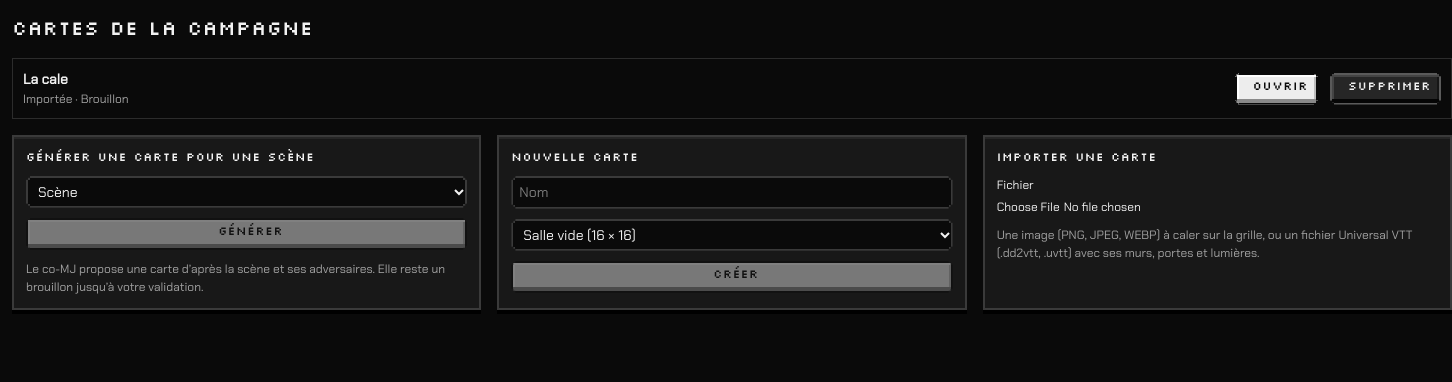
Test: MapsDesk › says why the model’s map was refused
Select "Le puits" in the dropdown named "Scène". click: x=247, y=192
box: 26,176 -> 467,208
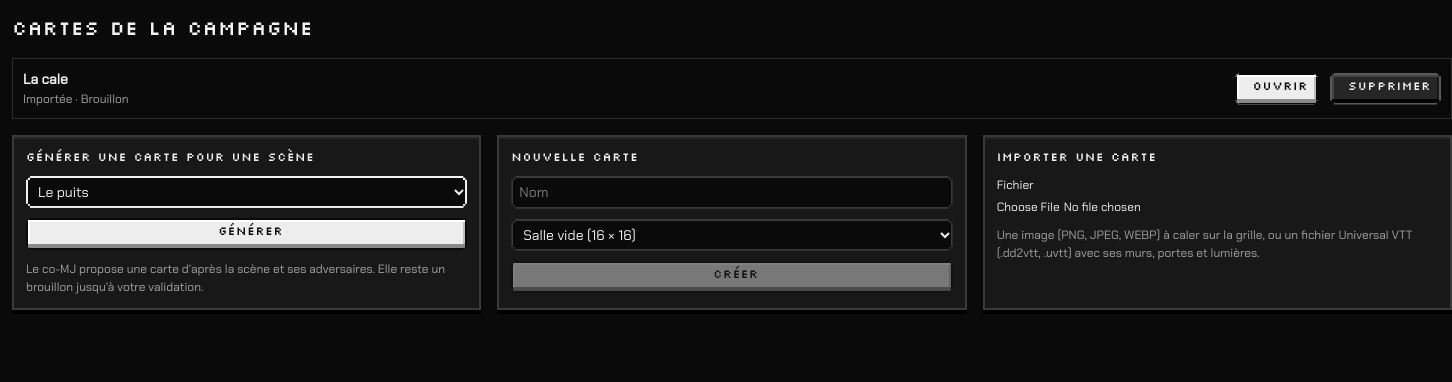
Click the button "Générer". click: x=247, y=234
box: 26,218 -> 467,250
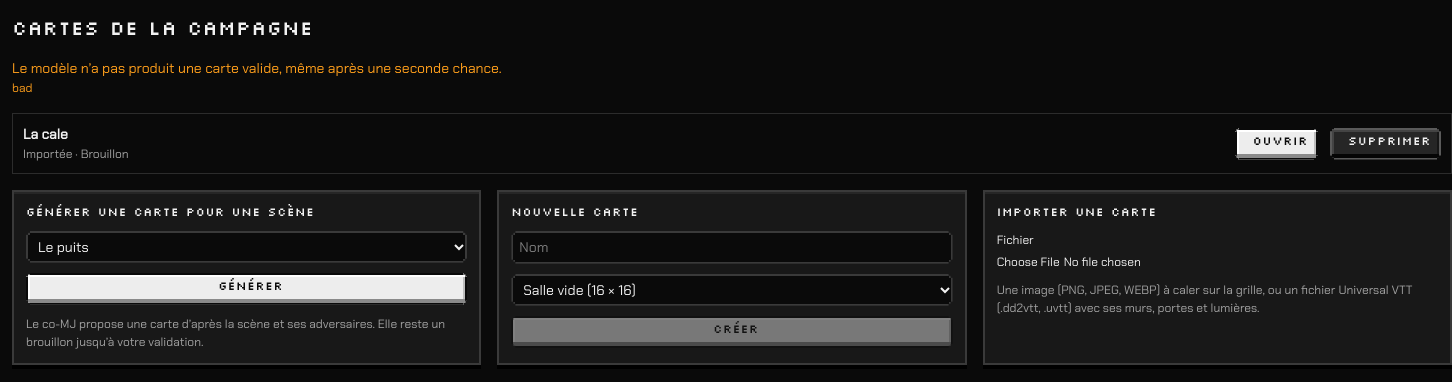
Check: the message shows "n’a pas produit une carte valide", box 12,59 -> 502,77
